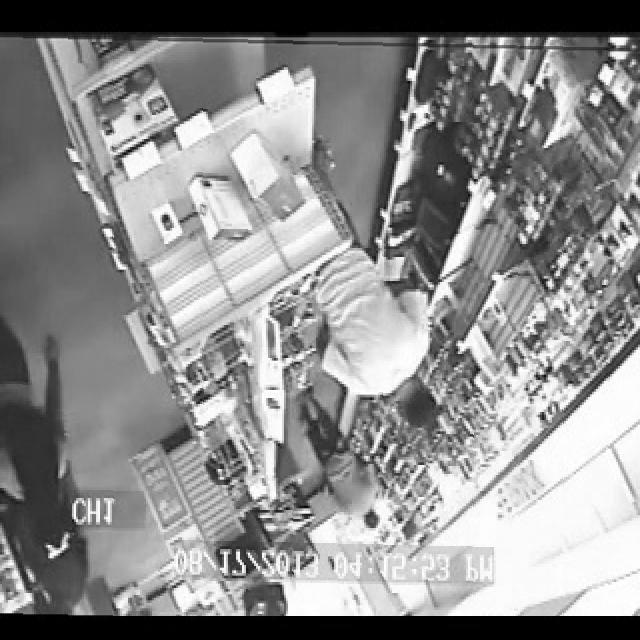Normal: (0, 34, 640, 616)
